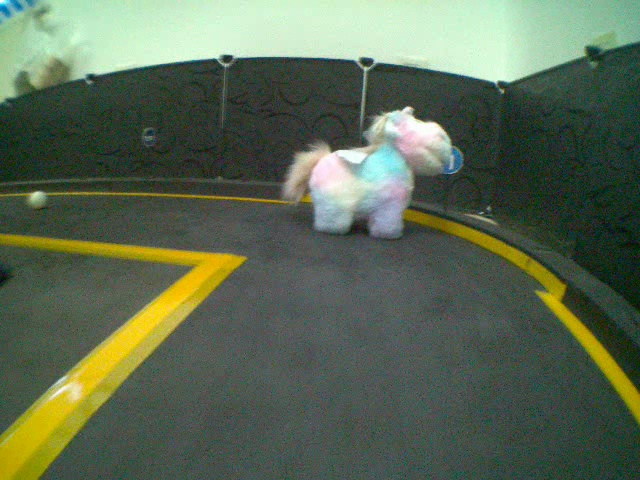unicorn: (276, 102, 453, 241)
